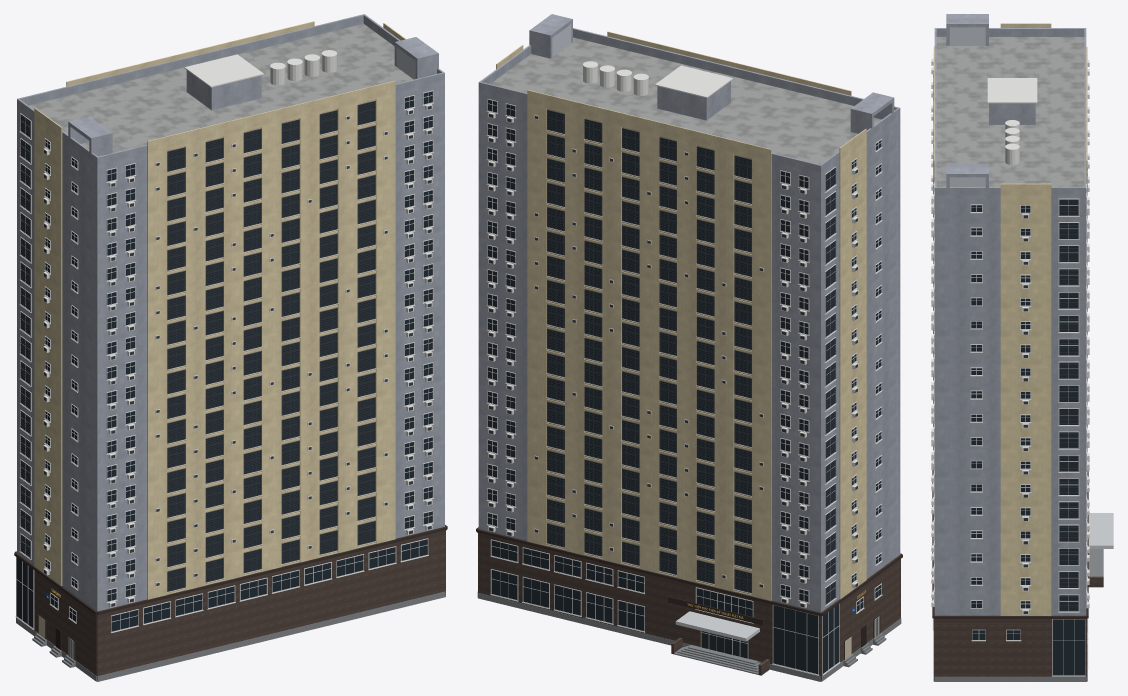
The picture shows the model from 3 angles, left to right: view 1: azimuth 30°, elevation 25°; view 2: azimuth 150°, elevation 25°; view 3: azimuth 270°, elevation 25°; orthographic projection. The views are drawn at different scales.
Visible parts, largest first — view 1: TB2; view 2: TB2; view 3: TB2.
Boxes of the visible parts, left/top/right/bottom form: TB2: left=14, top=14, right=447, bottom=681; TB2: left=476, top=14, right=902, bottom=681; TB2: left=931, top=14, right=1113, bottom=681.
Size of the model in its own units: 50.06 by 72.1 by 23.42.
19 materials, 6 textured.
